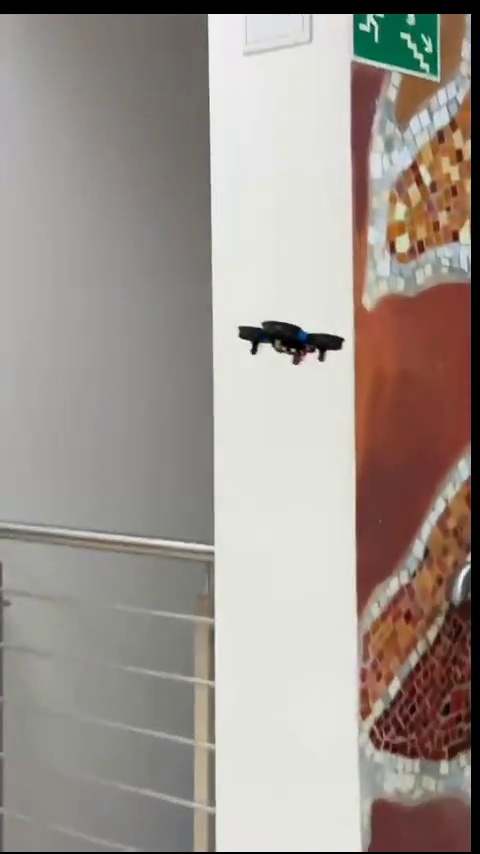drone: (237, 319, 343, 363)
